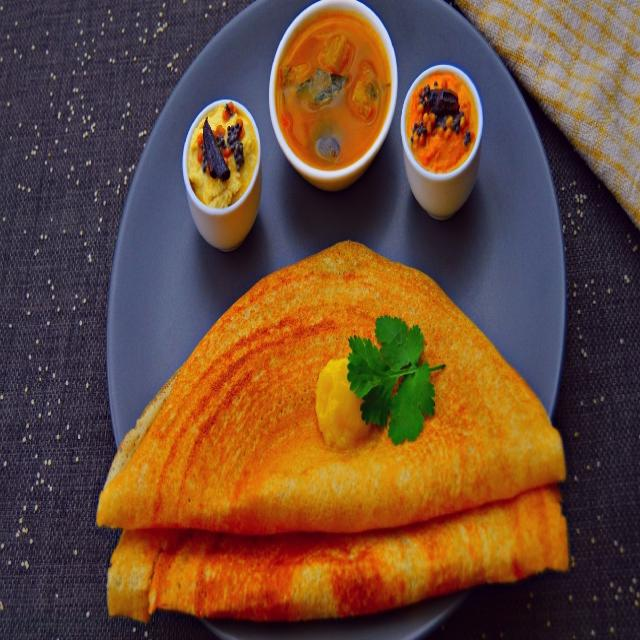Wet Waste: (102, 312, 565, 623), (83, 239, 563, 527)
